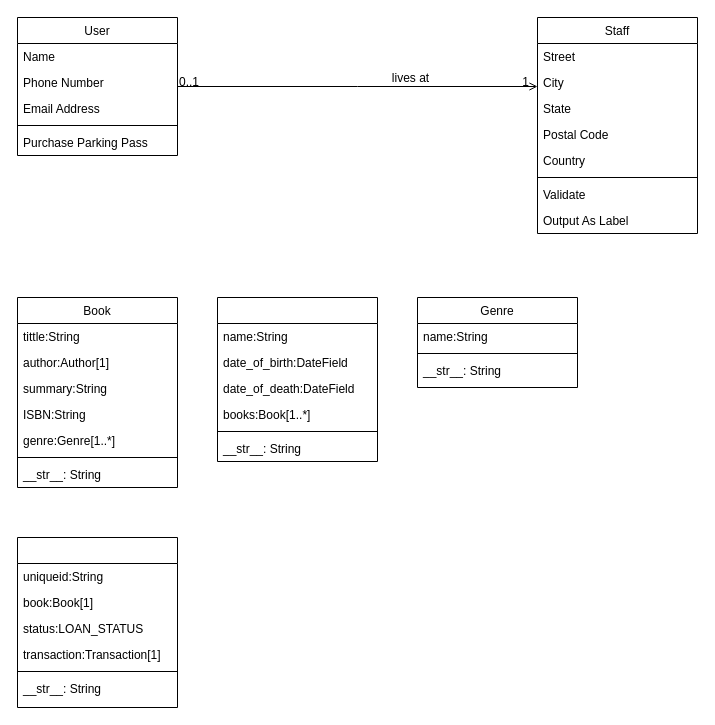
This 715x725 diagram has some shape labels left out. Each missing label, with the box of its shape:
Author: (216, 296, 378, 462)
BookInstance: (16, 536, 178, 708)
